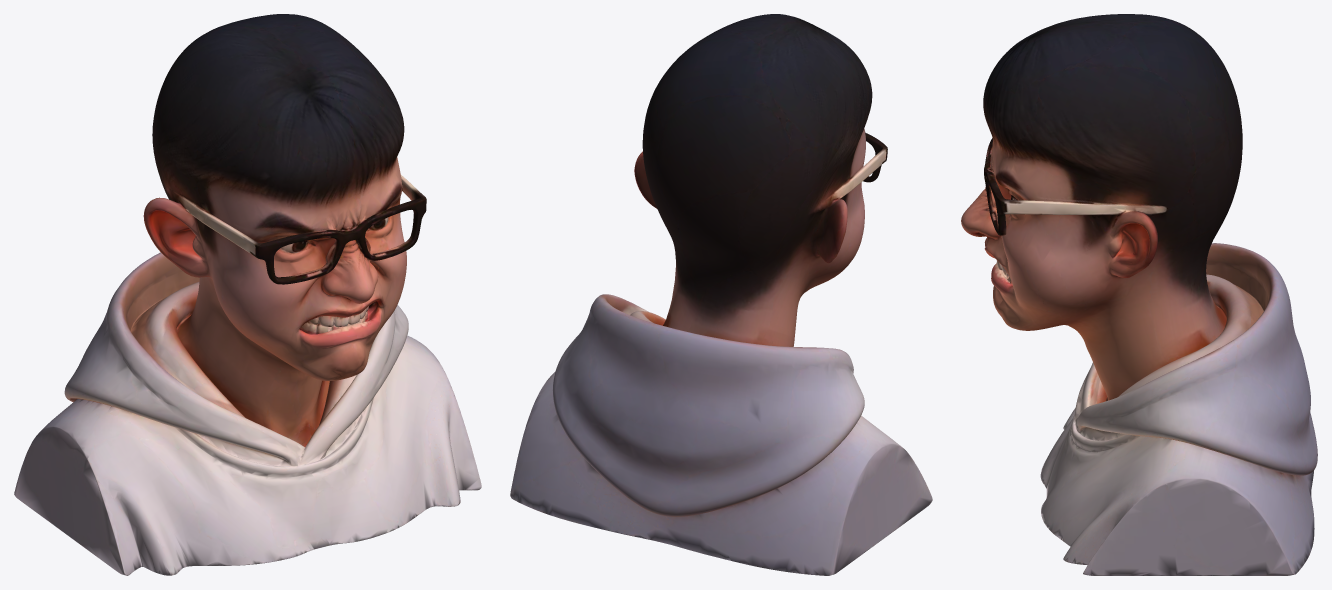
The model's file is mood-08.glb.
3 views of the same model, side by side, from view 1: azimuth 30°, elevation 25°; view 2: azimuth 150°, elevation 25°; view 3: azimuth 270°, elevation 25° (orthographic). The views are drawn at different scales.
Parts seen in each view (by area): view 1: node_0; view 2: node_0; view 3: node_0.
Part boxes in pixels (bbox=[...]): node_0: bbox=[14, 14, 481, 575]; node_0: bbox=[510, 14, 932, 575]; node_0: bbox=[961, 14, 1317, 575].
Size of the model in its own units: 0.6604 by 0.8624 by 0.6005.
1 material, 1 textured.
